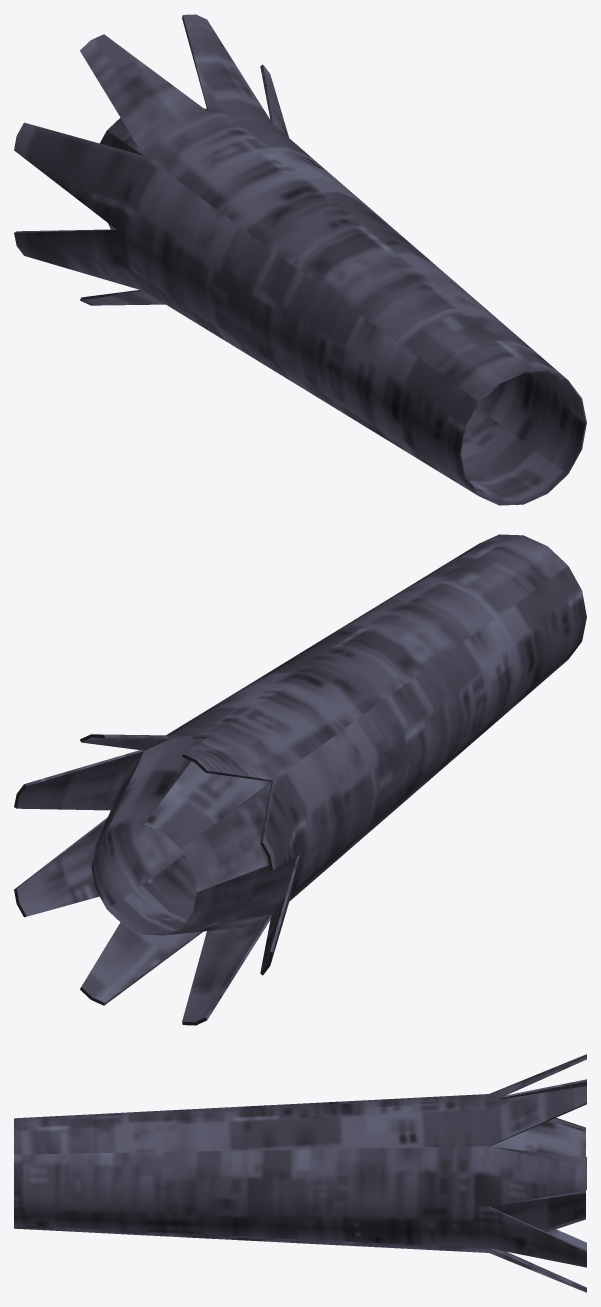
File: jaguar_company_base_turret_gun.obj
The picture shows the model from 3 angles, top to bottom: view 1: azimuth 30°, elevation 25°; view 2: azimuth 150°, elevation 25°; view 3: azimuth 270°, elevation 25°; orthographic projection. The views are drawn at different scales.
Visible parts, largest first — view 1: jaguar_company_base_turret_gun; view 2: jaguar_company_base_turret_gun; view 3: jaguar_company_base_turret_gun.
Boxes of the visible parts, x1,y1,x2,y2 form: jaguar_company_base_turret_gun: (14, 14, 586, 505); jaguar_company_base_turret_gun: (14, 534, 586, 1025); jaguar_company_base_turret_gun: (14, 1054, 586, 1292).
Size of the model in its own units: 8.49 by 8.49 by 21.57.
1 material, 1 textured.
